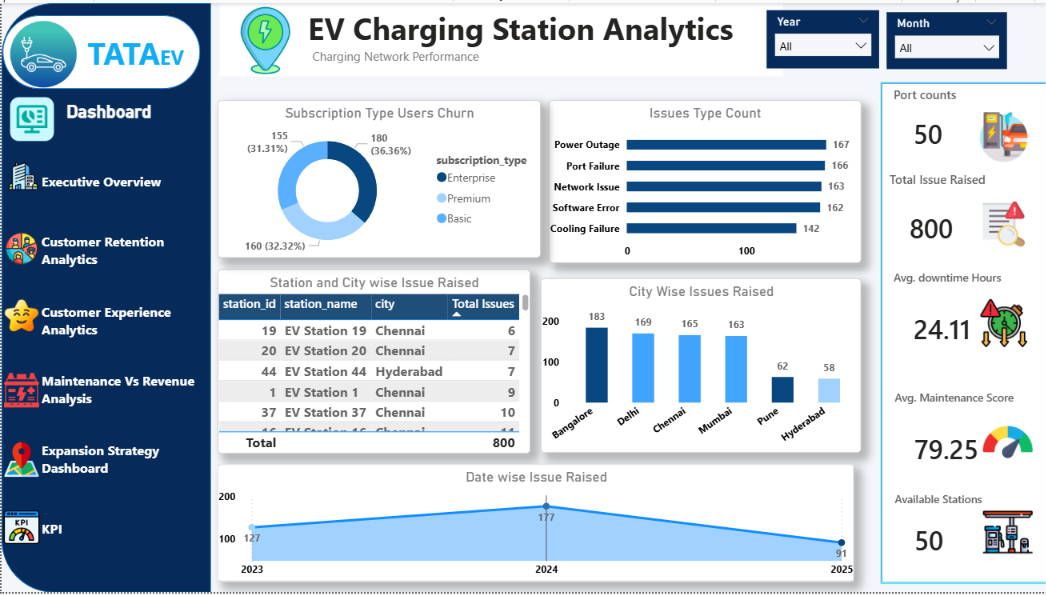

Layout of this report page (visuals, bound fields, positions):
{"tool":"powerbi","page":{"name":"Charging Network Performance","canvas":[1280,720],"ordinal":2},"visuals":[{"type":"shape","box":[1074.6,96.3,205.3,613.5],"z":0},{"type":"group","id":"g1","title":"Group 2","box":[264.7,118.4,786.8,588.7],"z":1000},{"type":"group","id":"g2","title":"Group 4","box":[266.6,0,688.5,89.3],"z":2000},{"type":"textbox","box":[266.6,0,688.5,89.3],"z":2000,"group":"g2"},{"type":"image","box":[269.4,3.7,107.4,84.4],"z":3000,"group":"g2"},{"type":"cardVisual","title":"Total Issue Raised  ","fields":{"Data":["CountNonNull(maintenance_logs.log_id)"]},"box":[1081.2,205.3,180,116.6],"z":3000},{"type":"shape","box":[0,0,256,720.7],"z":3500,"group":"g3"},{"type":"shape","box":[0.9,14.8,241.7,90.2],"z":3750,"group":"g3"},{"type":"cardVisual","title":"Port counts","fields":{"Data":["CountNonNull(stations.charger_type)"]},"box":[1086.3,101.4,171.1,92.5],"z":4000},{"type":"pageNavigator","box":[49.4,182.5,205.8,495.4],"z":4000,"group":"g3"},{"type":"cardVisual","title":"Avg. downtime Hours","fields":{"Data":["Avg(maintenance_logs.downtime_hours)"]},"box":[1086.3,327,171.1,124.2],"z":5000},{"type":"image","box":[0,115.3,74.1,53.5],"z":6000,"group":"g3"},{"type":"cardVisual","title":"Avg. Maintenance Score","fields":{"Data":["Avg(stations.maintenance_score)"]},"box":[1087.6,472.8,169.9,123],"z":6000},{"type":"cardVisual","title":"Available Stations ","fields":{"Data":["CountNonNull(stations.station_id)"]},"box":[1087.6,597,169.9,100.1],"z":7000},{"type":"group","id":"g3","title":"Group 3","box":[0,0,256,720.7],"z":8000},{"type":"textbox","box":[74.1,115.3,129,48],"z":8000,"group":"g3"},{"type":"barChart","title":"Issues Type Count  ","fields":{"Y":["Count(maintenance_logs.log_id)"],"Category":["maintenance_logs.issue_type"]},"box":[669.5,118.4,382,199.6],"z":8500,"group":"g4"},{"type":"slicer","fields":{"Values":["Date Table.Date.Variation.Date Hierarchy.Year"]},"box":[935.1,9.1,137.7,71],"z":9000},{"type":"slicer","fields":{"Values":["Date Table.Date.Variation.Date Hierarchy.Month"]},"box":[1082.6,10.5,147.5,69.6],"z":10000},{"type":"image","box":[1193.7,133.3,63.6,60.6],"z":11000},{"type":"image","box":[4.1,193.5,45.3,35.7],"z":12000,"group":"g3"},{"type":"image","box":[1193.7,239.3,63.6,60.6],"z":12000},{"type":"image","box":[1193.7,360.5,63.6,60.6],"z":13000},{"type":"image","box":[0,278.6,49.4,42.5],"z":14000,"group":"g3"},{"type":"image","box":[1198.2,505.9,63.6,60.6],"z":14000},{"type":"textbox","box":[99.8,30.5,129.4,59.6],"z":14500,"group":"g3"},{"type":"image","box":[1198.2,616.5,63.6,60.6],"z":15000},{"type":"image","box":[2.7,20.3,97,83.4],"z":15500,"group":"g3"},{"type":"tableEx","title":"Station and City wise Issue Raised ","fields":{"Values":["stations.station_id","stations.station_name","stations.city","CountNonNull(maintenance_logs.log_id)"]},"box":[264.7,325.1,382,225.2],"z":16000,"group":"g4"},{"type":"image","box":[0,360.9,49.4,42.5],"z":16000,"group":"g3"},{"type":"group","id":"g4","title":"Group 1","box":[264.7,118.4,786.8,588.7],"z":16001,"group":"g1"},{"type":"columnChart","title":"City Wise Issues Raised ","fields":{"Category":["stations.city"],"Y":["CountNonNull(maintenance_logs.log_id)"]},"box":[659.5,336.5,392,213.8],"z":16125,"group":"g4"},{"type":"areaChart","title":"Date wise Issue Raised","fields":{"Y":["Count(maintenance_logs.log_id)"],"Category":["Date Table.Date.Variation.Date Hierarchy.Year"]},"box":[264.7,563.1,778.3,144],"z":16187,"group":"g4"},{"type":"donutChart","title":"Subscription Type Users Churn ","fields":{"Category":["customers(1).subscription_type"],"Y":["CountNonNull(customers(1).Churn users)"]},"box":[264.7,118.4,394.8,192.4],"z":16250,"group":"g4"},{"type":"image","box":[0,451.5,49.4,43.9],"z":19000,"group":"g3"},{"type":"image","box":[0,536.5,49.4,42.5],"z":20000,"group":"g3"},{"type":"image","box":[0,618.9,49.4,43.9],"z":21000,"group":"g3"}]}

Visuals, with their boxes on the page's 1280x720 design canvas (x1, y1, x2, y2). These are canvas units, not pixel positions in the 1046x596 screenshot, which may show the page scaled, cropped or inside an application window:
shape: (left=1075, top=96, right=1280, bottom=710)
"Group 2" group: (left=265, top=118, right=1052, bottom=707)
"Group 4" group: (left=267, top=0, right=955, bottom=89)
textbox: (left=267, top=0, right=955, bottom=89)
image: (left=269, top=4, right=377, bottom=88)
"Total Issue Raised  " cardVisual: (left=1081, top=205, right=1261, bottom=322)
shape: (left=0, top=0, right=256, bottom=721)
shape: (left=1, top=15, right=243, bottom=105)
"Port counts" cardVisual: (left=1086, top=101, right=1257, bottom=194)
pageNavigator: (left=49, top=182, right=255, bottom=678)
"Avg. downtime Hours" cardVisual: (left=1086, top=327, right=1257, bottom=451)
image: (left=0, top=115, right=74, bottom=169)
"Avg. Maintenance Score" cardVisual: (left=1088, top=473, right=1258, bottom=596)
"Available Stations " cardVisual: (left=1088, top=597, right=1258, bottom=697)
"Group 3" group: (left=0, top=0, right=256, bottom=721)
textbox: (left=74, top=115, right=203, bottom=163)
"Issues Type Count  " barChart: (left=670, top=118, right=1052, bottom=318)
slicer - Date Table.Date.Variation.Date Hierarchy.Year: (left=935, top=9, right=1073, bottom=80)
slicer - Date Table.Date.Variation.Date Hierarchy.Month: (left=1083, top=10, right=1230, bottom=80)
image: (left=1194, top=133, right=1257, bottom=194)
image: (left=4, top=194, right=49, bottom=229)
image: (left=1194, top=239, right=1257, bottom=300)
image: (left=1194, top=360, right=1257, bottom=421)
image: (left=0, top=279, right=49, bottom=321)
image: (left=1198, top=506, right=1262, bottom=566)
textbox: (left=100, top=30, right=229, bottom=90)
image: (left=1198, top=616, right=1262, bottom=677)
image: (left=3, top=20, right=100, bottom=104)
"Station and City wise Issue Raised " tableEx: (left=265, top=325, right=647, bottom=550)
image: (left=0, top=361, right=49, bottom=403)
"Group 1" group: (left=265, top=118, right=1052, bottom=707)
"City Wise Issues Raised " columnChart: (left=660, top=336, right=1052, bottom=550)
"Date wise Issue Raised" areaChart: (left=265, top=563, right=1043, bottom=707)
"Subscription Type Users Churn " donutChart: (left=265, top=118, right=660, bottom=311)
image: (left=0, top=452, right=49, bottom=495)
image: (left=0, top=536, right=49, bottom=579)
image: (left=0, top=619, right=49, bottom=663)
